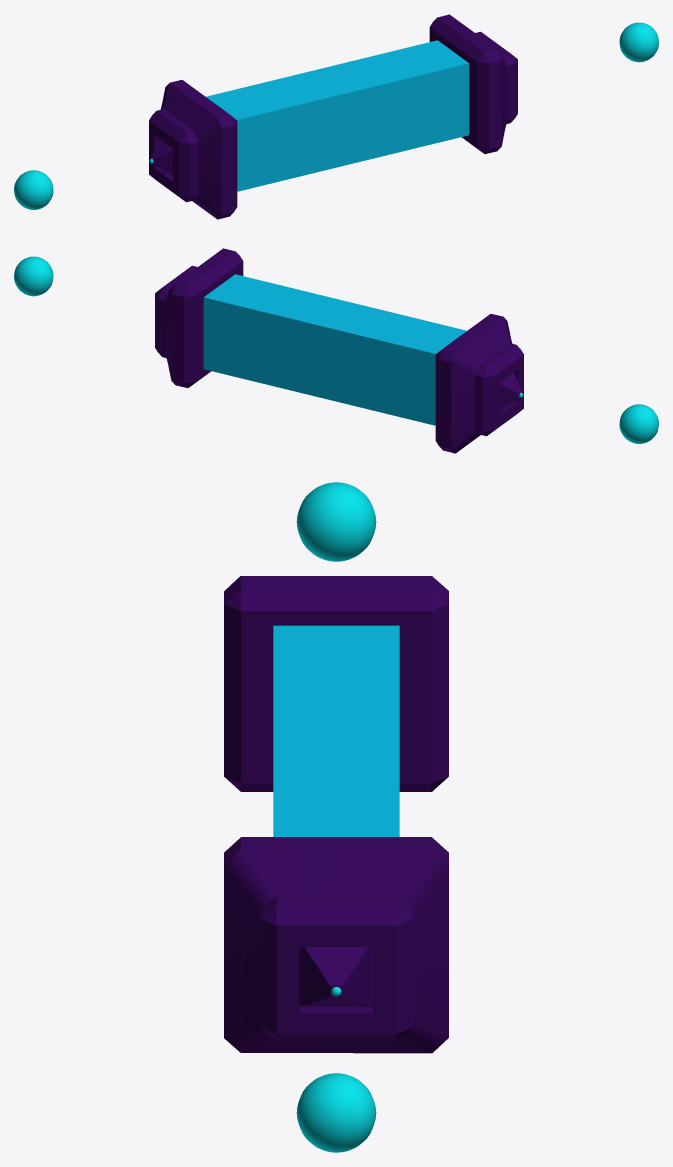
File: LightningBox.fbx
The picture shows the model from 3 angles, top to bottom: view 1: azimuth 30°, elevation 25°; view 2: azimuth 150°, elevation 25°; view 3: azimuth 270°, elevation 25°; orthographic projection. The views are drawn at different scales.
Visible parts, largest first — view 1: pCube1, pCube2, pCube3, pSphere3, pSphere1; view 2: pCube1, pCube2, pCube3, pSphere3, pSphere1; view 3: pCube3, pCube2, pCube1, pSphere1, pSphere3.
Boxes of the visible parts, <box> form: pCube1: <box>206,40,469,191</box>; pCube2: <box>149,80,237,219</box>; pCube3: <box>429,14,517,153</box>; pSphere3: <box>619,22,658,62</box>; pSphere1: <box>14,170,53,209</box>; pCube1: <box>203,274,466,425</box>; pCube2: <box>435,314,523,453</box>; pCube3: <box>155,248,243,387</box>; pSphere3: <box>14,256,53,296</box>; pSphere1: <box>619,404,658,443</box>; pCube3: <box>224,837,448,1053</box>; pCube2: <box>224,576,448,791</box>; pCube1: <box>273,625,399,836</box>; pSphere1: <box>296,482,376,561</box>; pSphere3: <box>296,1073,376,1152</box>.
Size of the model in its own units: 11.67 by 1.78 by 1.78.
